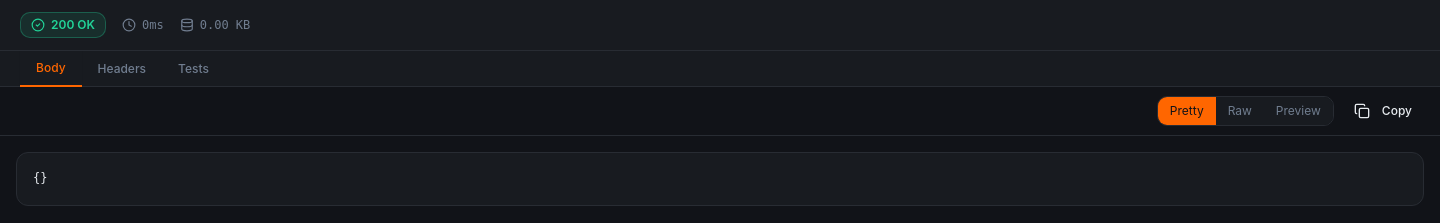
Test: ResponseViewer › shows empty state in Tests tab when no results
Click the tab "Tests".
click(193, 68)  # box [162,50,225,86]
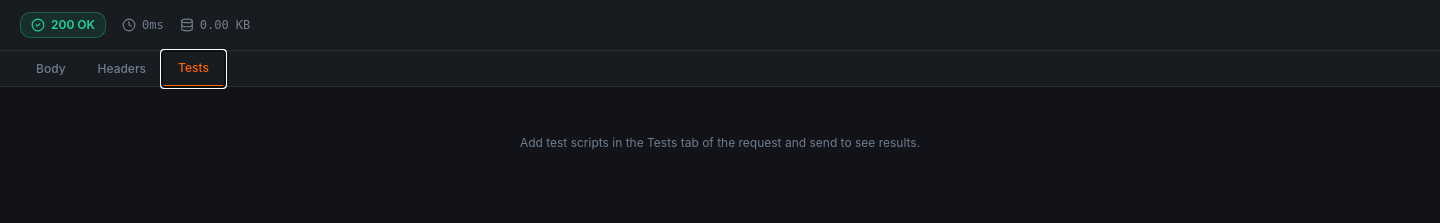
Expected: the text "Add test scripts in the Tests tab" is shown, [520,135,920,150]
